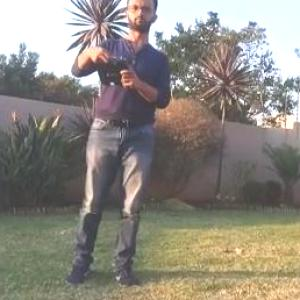follow: (55, 0, 173, 297)
